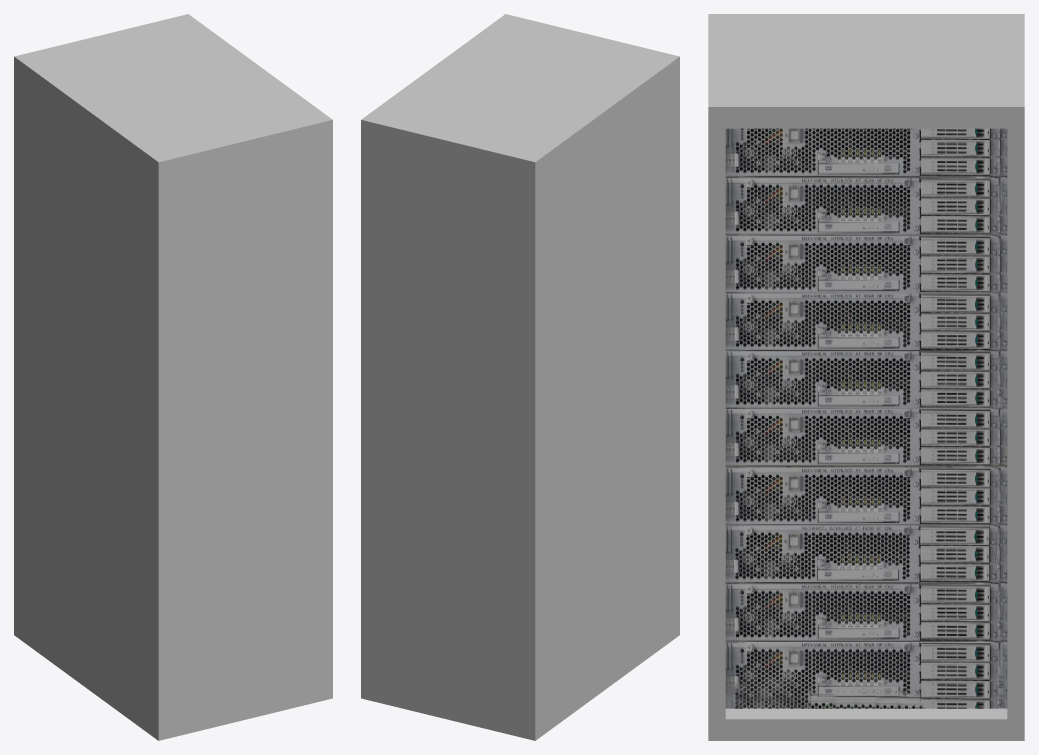
The model's file is metalowaSzafka.FBX.
3 views of the same model, side by side, from view 1: azimuth 30°, elevation 25°; view 2: azimuth 150°, elevation 25°; view 3: azimuth 270°, elevation 25° (orthographic). The views are drawn at different scales.
Parts seen in each view (by area): view 1: Box827; view 2: Box827; view 3: Box827.
Part boxes in pixels (left/top/right/bottom): Box827: left=14, top=14, right=332, bottom=740; Box827: left=361, top=14, right=679, bottom=740; Box827: left=708, top=14, right=1024, bottom=740.
Bounding box in the file's own units: 2 × 6.34 × 2.87.
